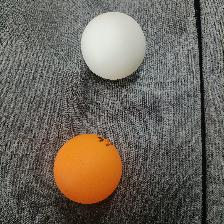WhiteBall: (80, 11, 146, 80)
YellowBall: (53, 133, 122, 204)
